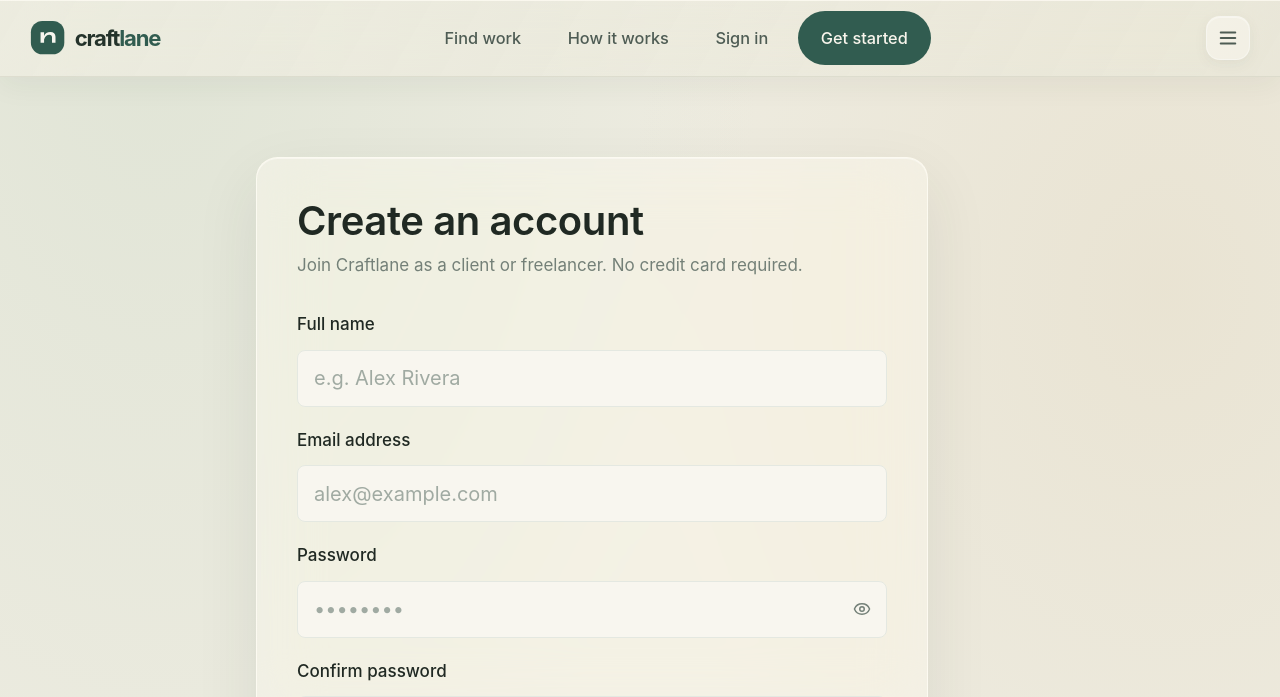
SignUpPage › shows terms error when checkbox not checked
The width and height of the screenshot is (1280, 697).
Type "a@b.c" into the field labelled "Email address".
click(592, 494); type("a@b.c")  # box [297,465,887,522]
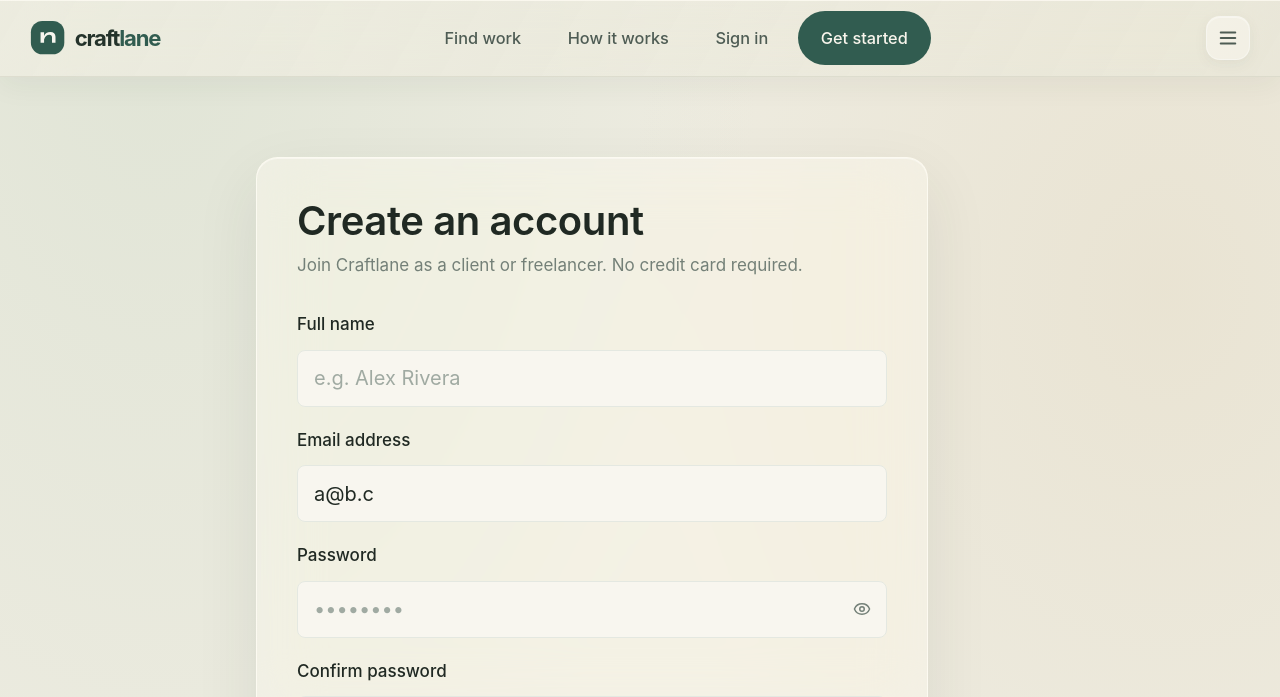
Type "password123" into the 1st password field with placeholder "••••••••".
click(592, 609); type("password123")  # box [297,581,887,638]
(page scrolled)
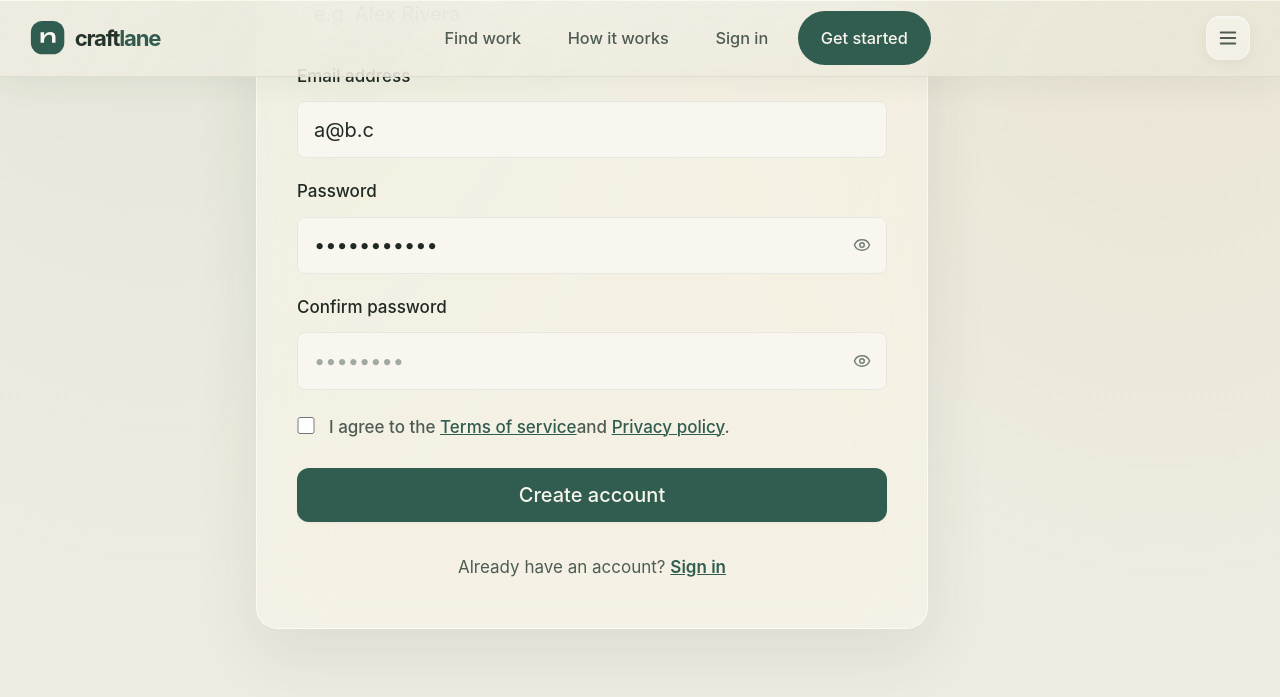
Type "password123" into the password field with placeholder "••••••••".
click(592, 361); type("password123")  # box [297,332,887,390]
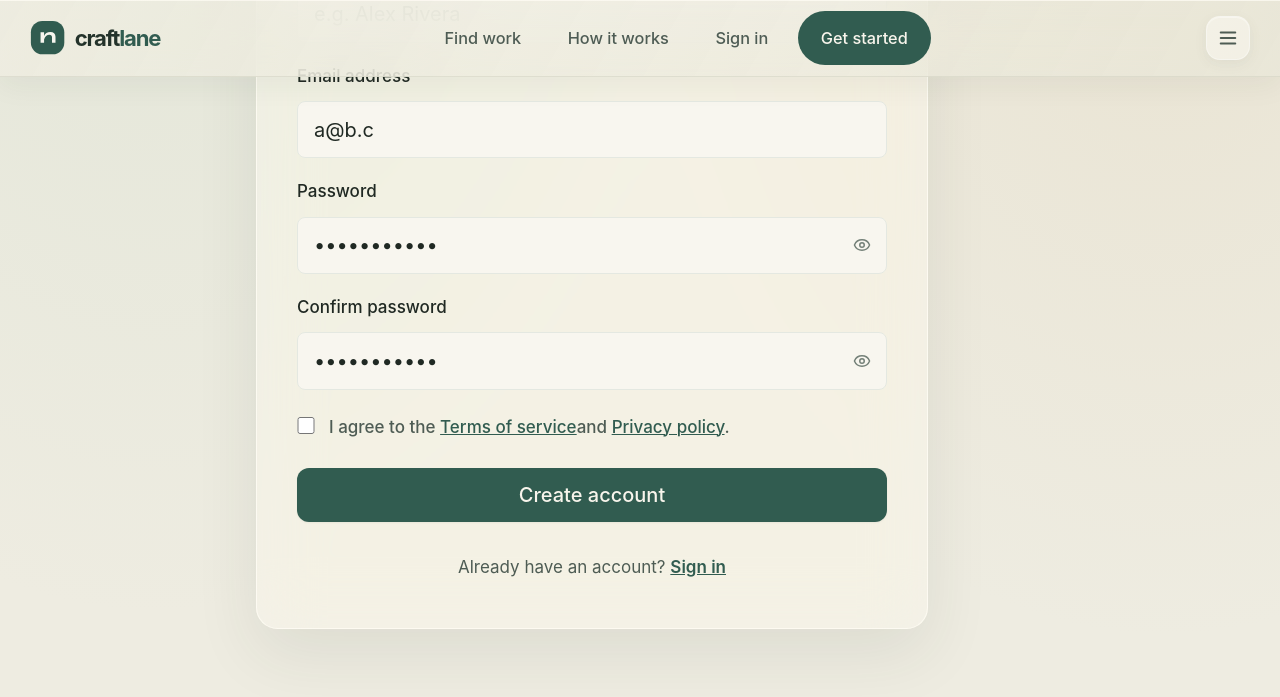
// leave terms unchecked
Click the button "Create account".
click(592, 495)  # box [297,468,887,522]
(page scrolled)
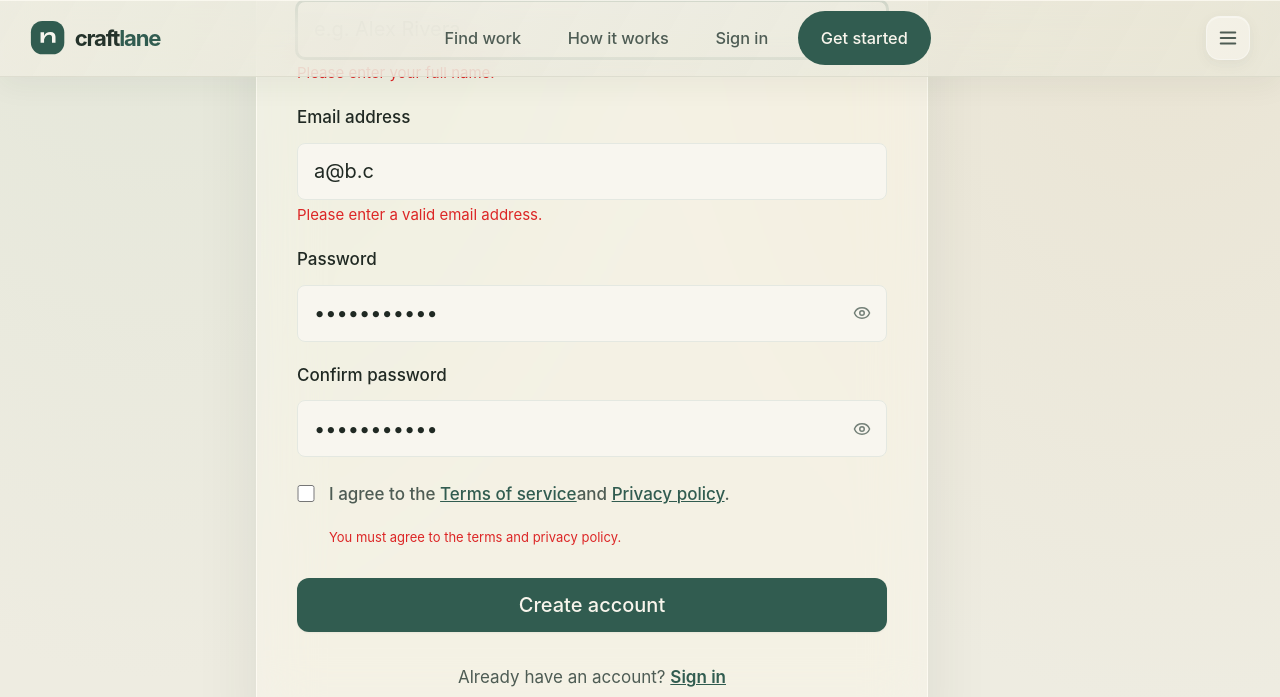
Check: the text "You must agree to the terms and privacy policy." is shown, box [329,529,621,545]
